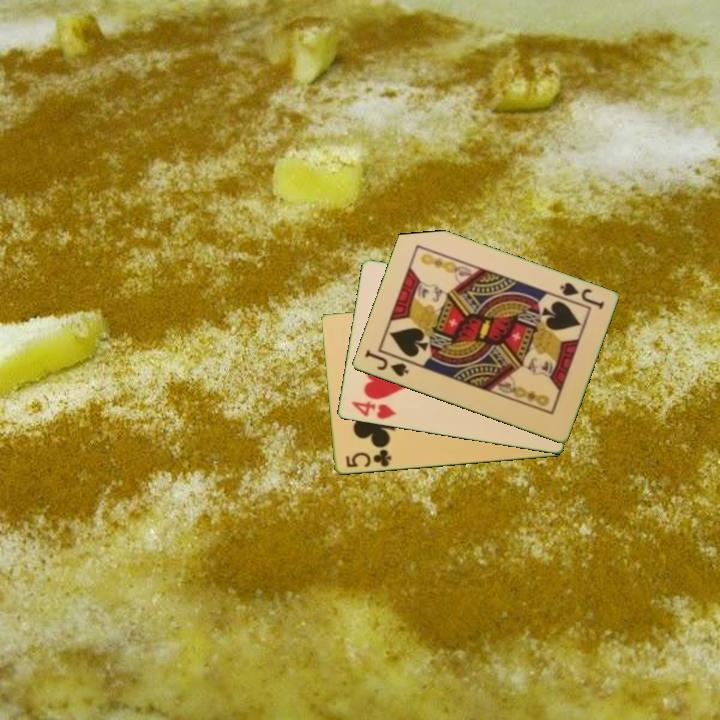4h: (347, 397, 399, 422)
5c: (342, 446, 394, 471)
Js: (553, 279, 607, 313), (361, 346, 411, 380)
